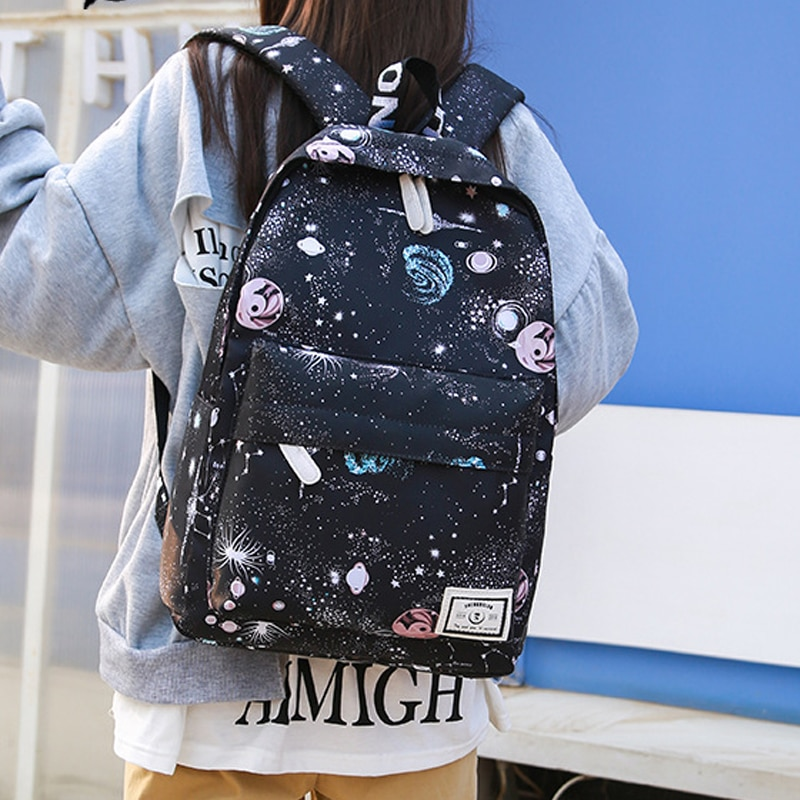Men's Backpacks: (157, 25, 556, 677)
